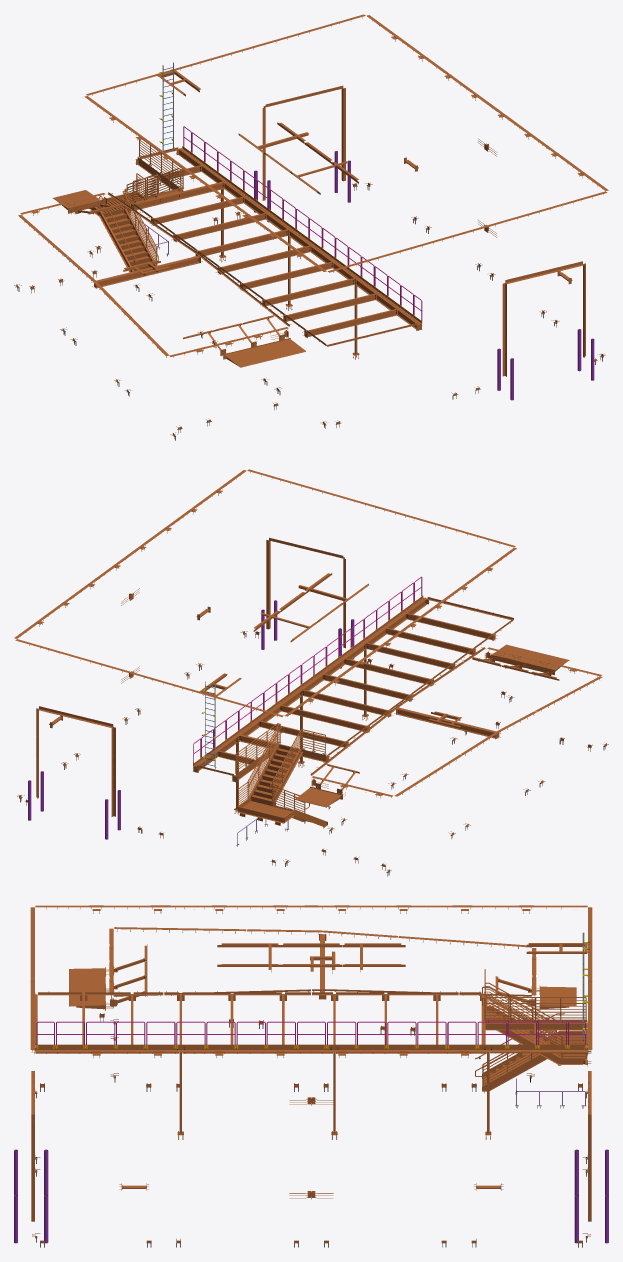
3 views of the same model, one above another, from view 1: azimuth 30°, elevation 25°; view 2: azimuth 150°, elevation 25°; view 3: azimuth 270°, elevation 25° (orthographic). The views are drawn at different scales.
Visible parts, largest first — view 1: Mesh 11490; view 2: Mesh 11490; view 3: Mesh 11490.
Part boxes in pixels (x1=…): Mesh 11490: x1=14, y1=14, x2=608, y2=440; Mesh 11490: x1=14, y1=469, x2=608, y2=876; Mesh 11490: x1=14, y1=905, x2=608, y2=1247.
Size of the model in its own units: 22.54 by 9.42 by 24.58.
1 material, 1 textured.
